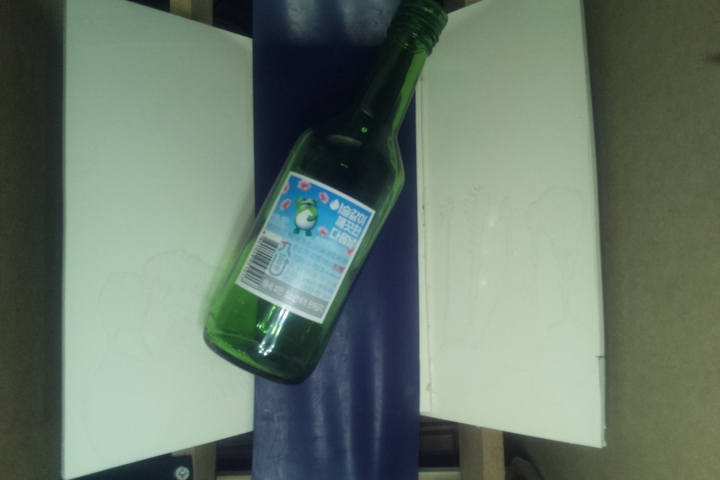soju: (205, 1, 450, 391)
